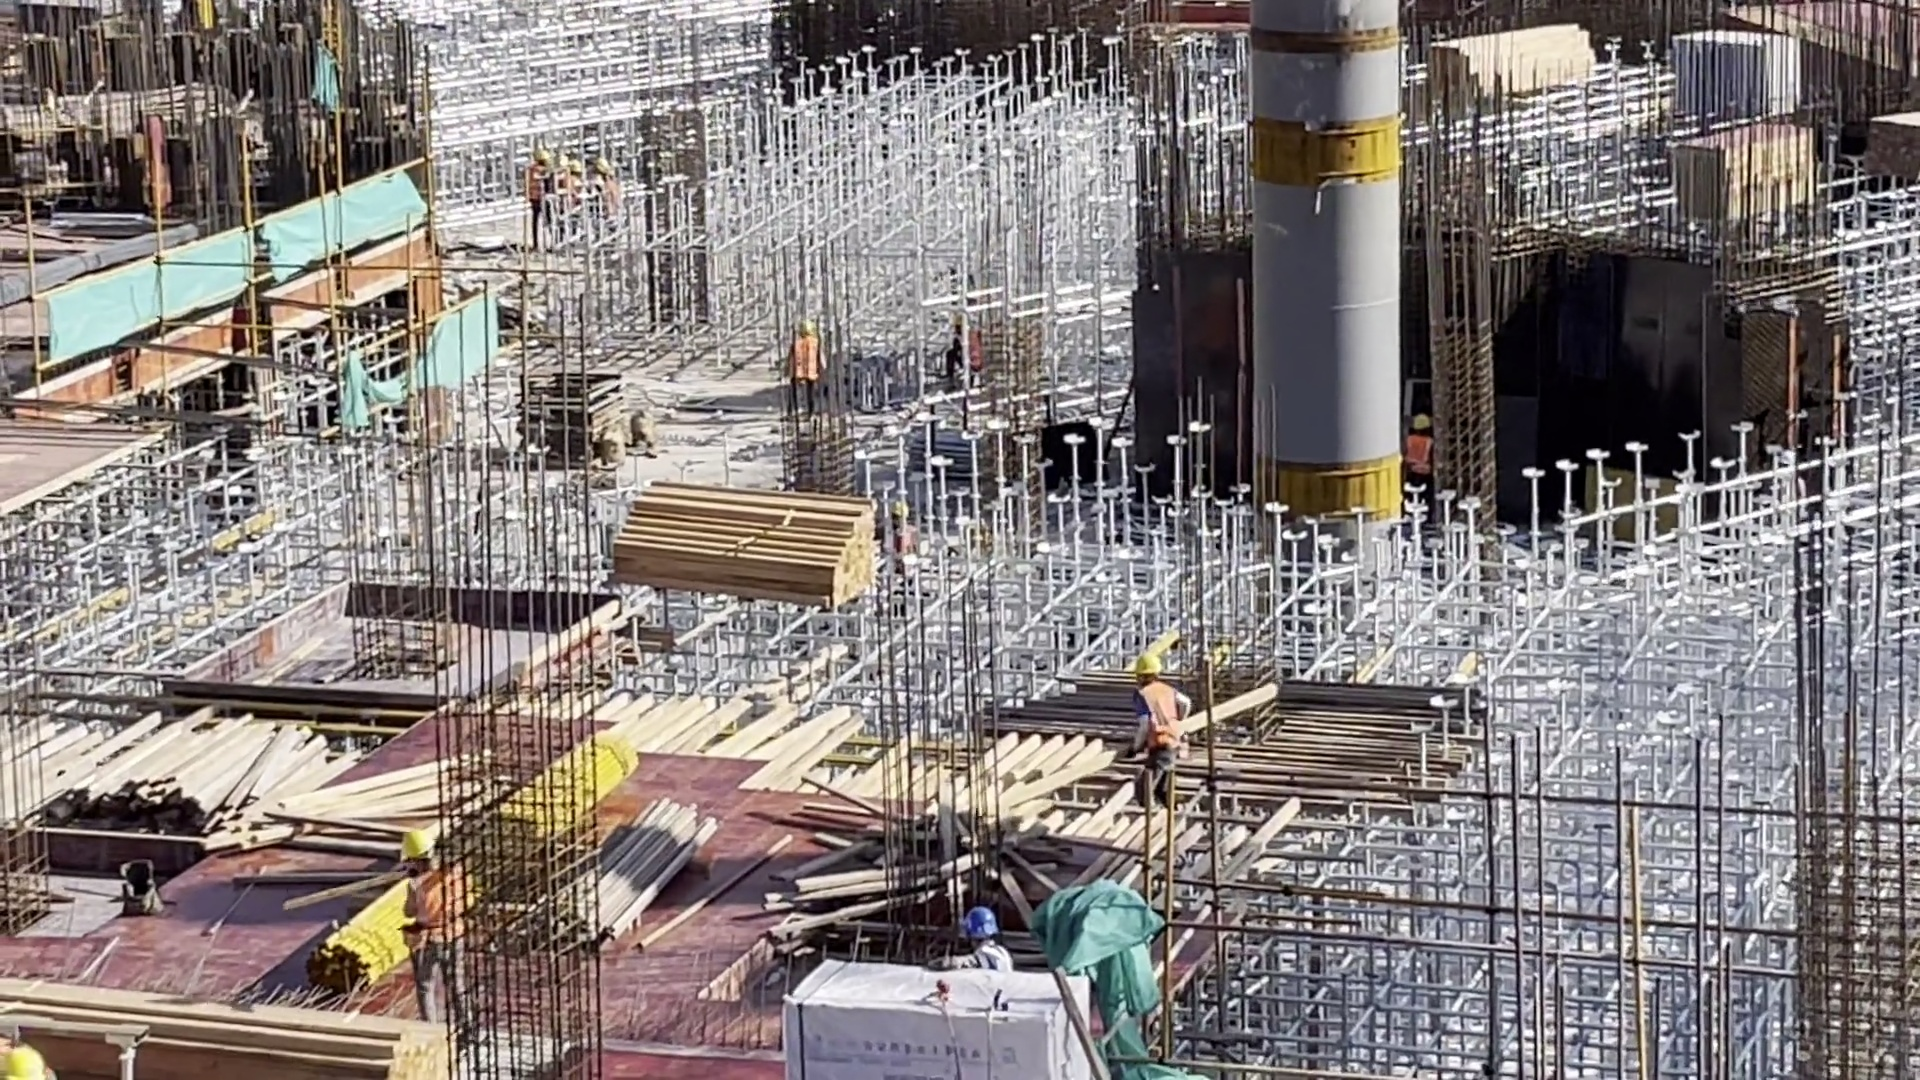board: (1660, 125, 1808, 228)
helmet: (402, 828, 439, 866), (955, 906, 1001, 936), (1128, 649, 1163, 675), (1410, 413, 1432, 432), (797, 320, 814, 337)
person: (403, 822, 464, 1024), (1124, 644, 1194, 800), (934, 907, 1017, 977), (783, 319, 826, 402), (882, 489, 919, 573), (1401, 409, 1435, 483), (529, 149, 555, 242), (557, 156, 584, 196), (599, 148, 624, 172)
vest: (1142, 684, 1186, 750), (1401, 436, 1431, 479), (790, 339, 819, 383)
wood: (1, 702, 326, 867), (597, 478, 879, 606), (1432, 17, 1601, 113)
